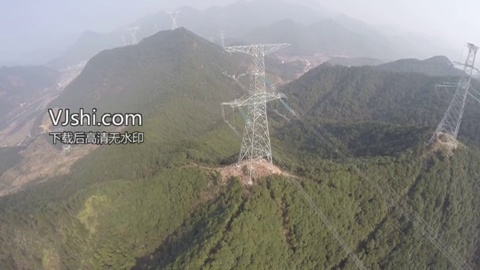tower_body: (218, 36, 299, 183), (428, 33, 480, 154)
tower_foot: (239, 149, 278, 181), (427, 125, 466, 153)
tower_head: (223, 39, 296, 56), (462, 40, 480, 56)
